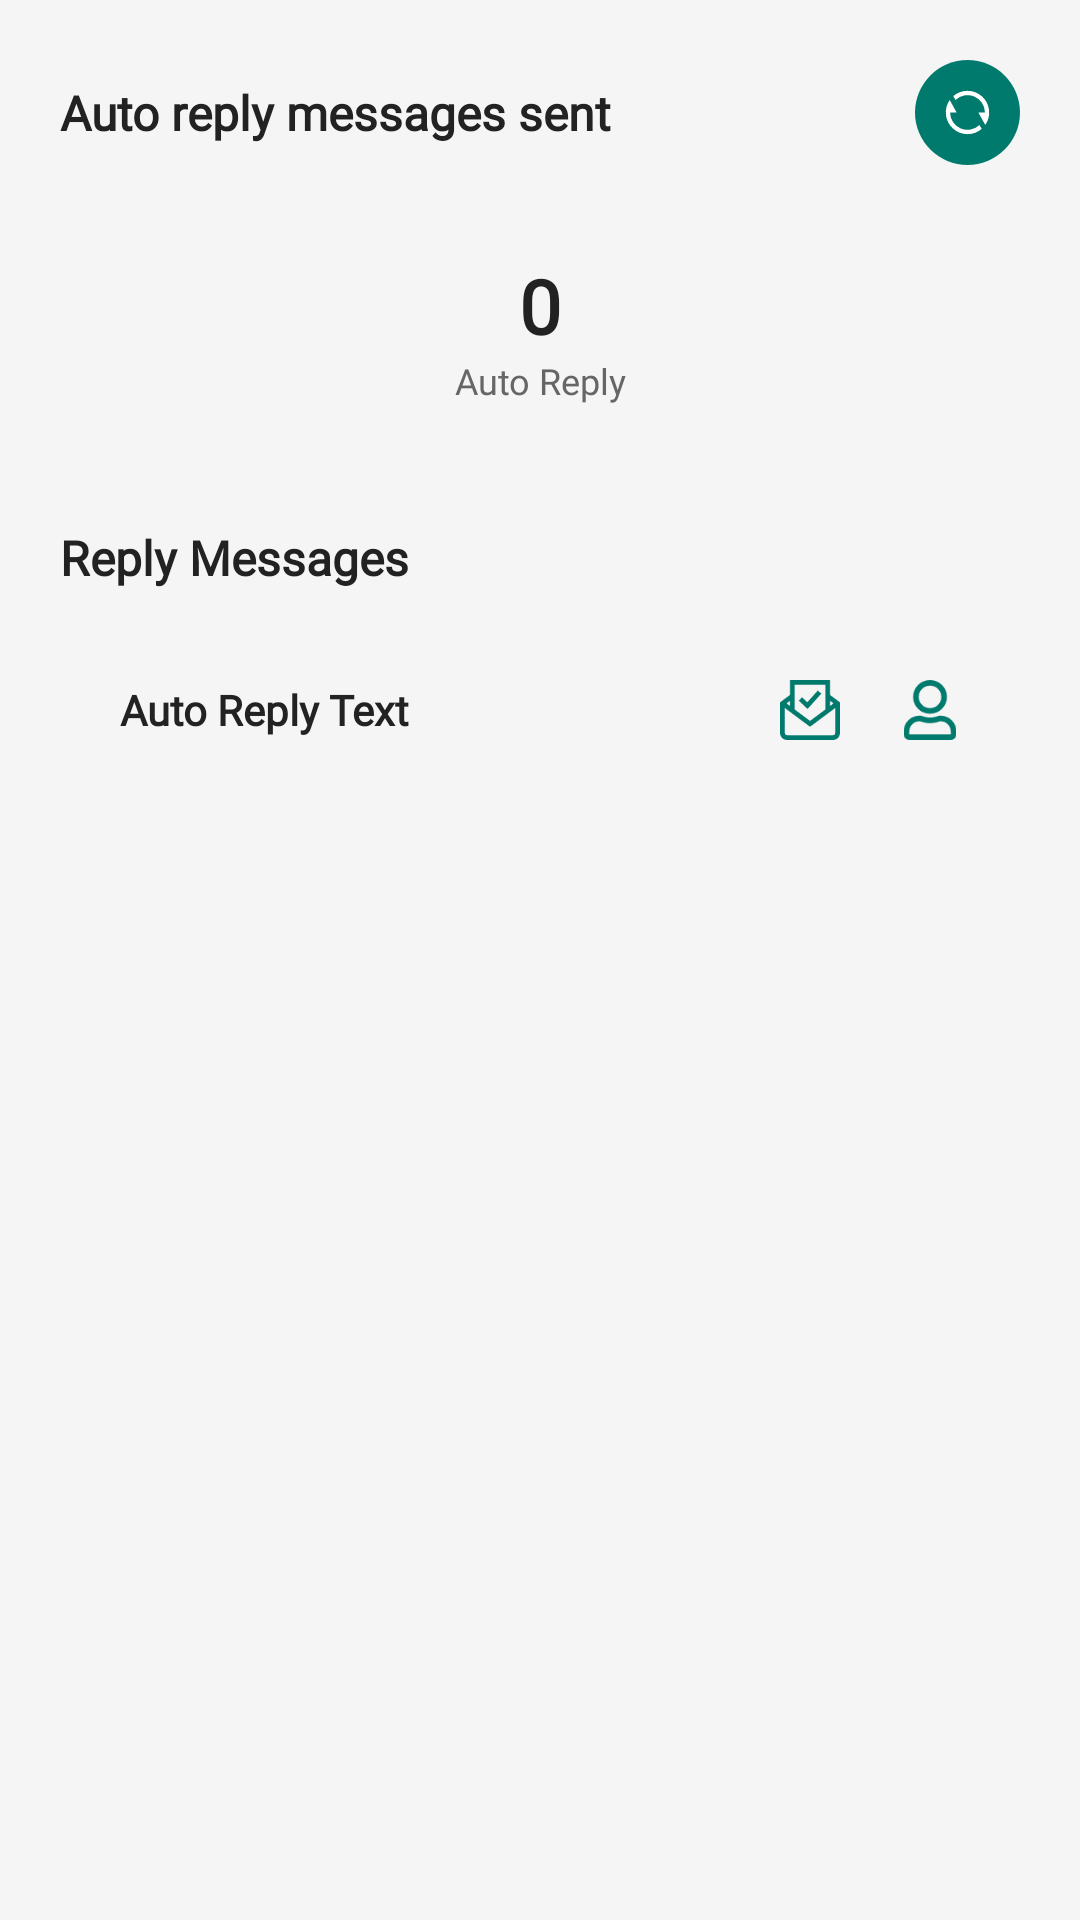

Screen size 1080 × 1920. Icon name, then its center in pixels as (x,y):
message stat: (810,710)
persion stat: (930,710)
refresh: (967,112)
